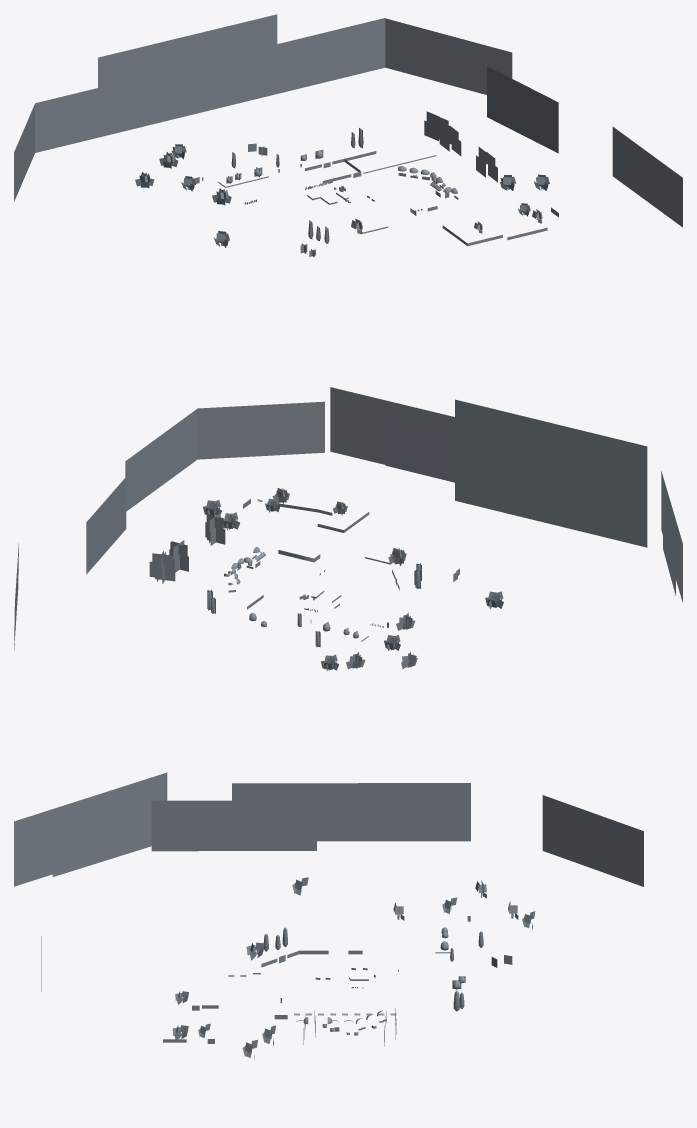
File: gltf__Models__map__Tutorial__modeB__modeB_alphaMesh.glb
3 renders of one model, top to bottom at view 1: azimuth 30°, elevation 25°; view 2: azimuth 150°, elevation 25°; view 3: azimuth 270°, elevation 25°, orthographic. The views are drawn at different scales.
Visible parts, largest first — view 1: modeB_alphaMesh; view 2: modeB_alphaMesh; view 3: modeB_alphaMesh.
Part boxes in pixels (bbox=[...]): modeB_alphaMesh: bbox=[14, 14, 682, 257]; modeB_alphaMesh: bbox=[14, 387, 682, 670]; modeB_alphaMesh: bbox=[14, 772, 643, 1059].
Size of the model in its own units: 166 by 32.18 by 171.
Materials: 1 (1 with a texture image).
